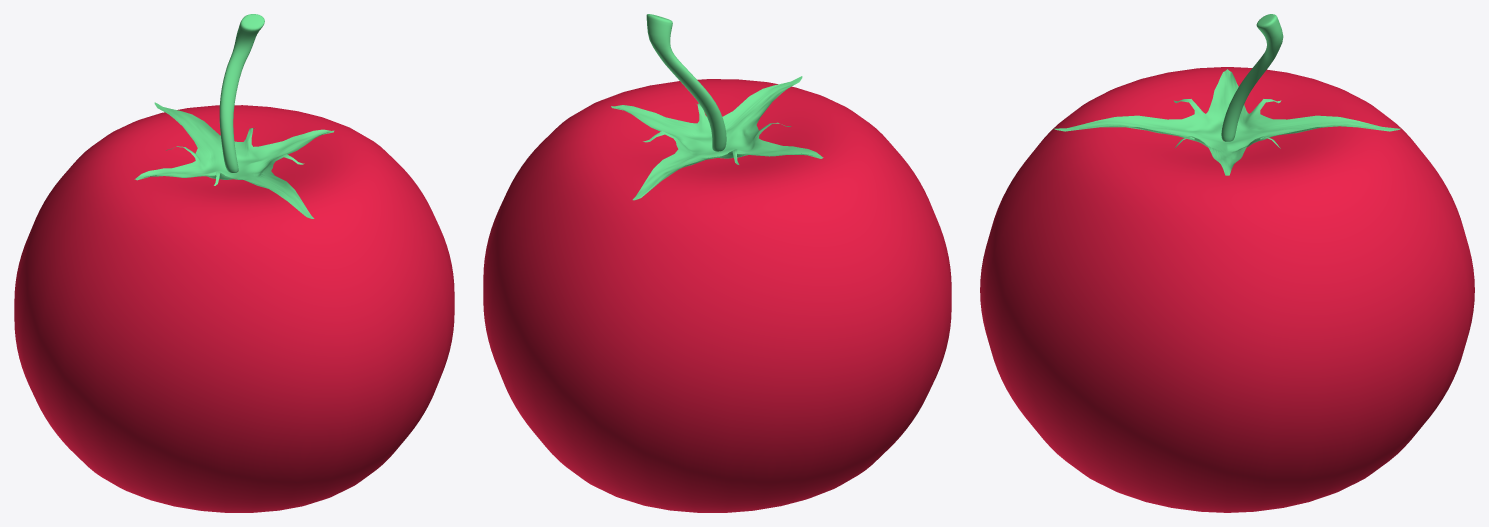
3 views of the same model, side by side, from view 1: azimuth 30°, elevation 25°; view 2: azimuth 150°, elevation 25°; view 3: azimuth 270°, elevation 25° (orthographic). The views are drawn at different scales.
Visible parts, largest first — view 1: Sphere, Plane, Cylinder; view 2: Sphere, Plane, Cylinder; view 3: Sphere, Plane, Cylinder.
Boxes of the visible parts, <box> form: Sphere: <box>14,105,454,512</box>; Plane: <box>134,102,334,218</box>; Cylinder: <box>219,14,264,172</box>; Sphere: <box>483,79,951,512</box>; Plane: <box>611,76,823,200</box>; Cylinder: <box>646,14,726,151</box>; Sphere: <box>980,67,1474,512</box>; Plane: <box>1054,69,1400,175</box>; Cylinder: <box>1221,14,1283,141</box>.
Size of the model in its own units: 2.06 by 2.19 by 2.07.
